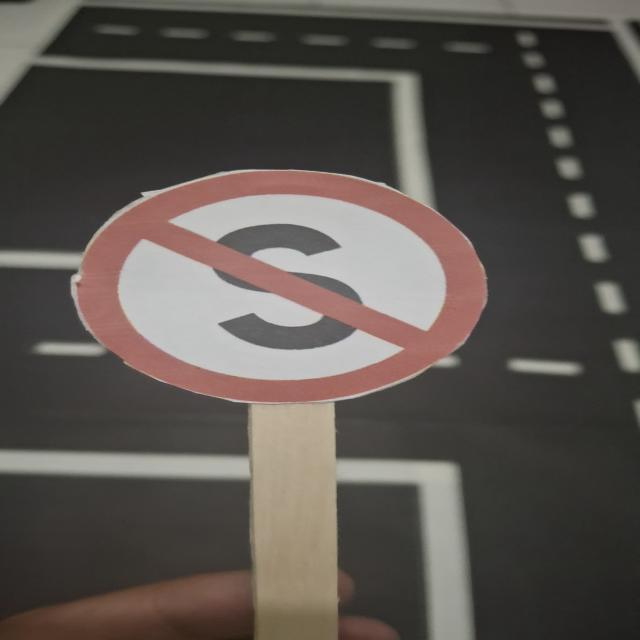Rambu Berhenti: (76, 170, 491, 403)
